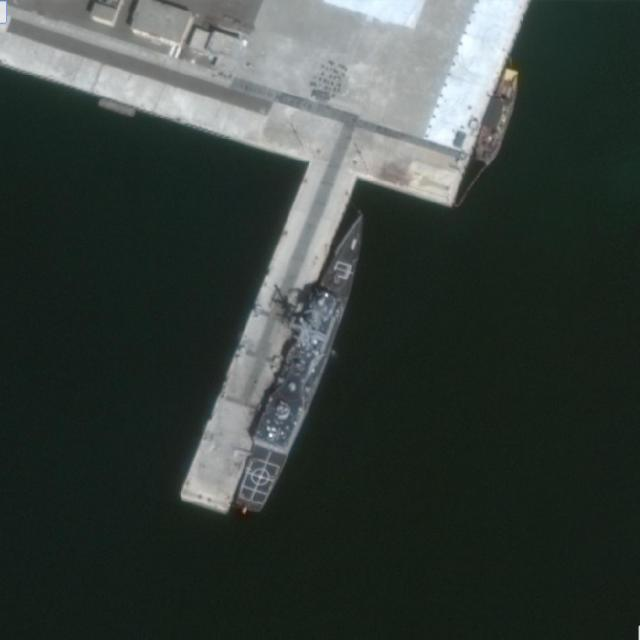Dock: (179, 160, 356, 512)
Frigate: (231, 209, 378, 516)
